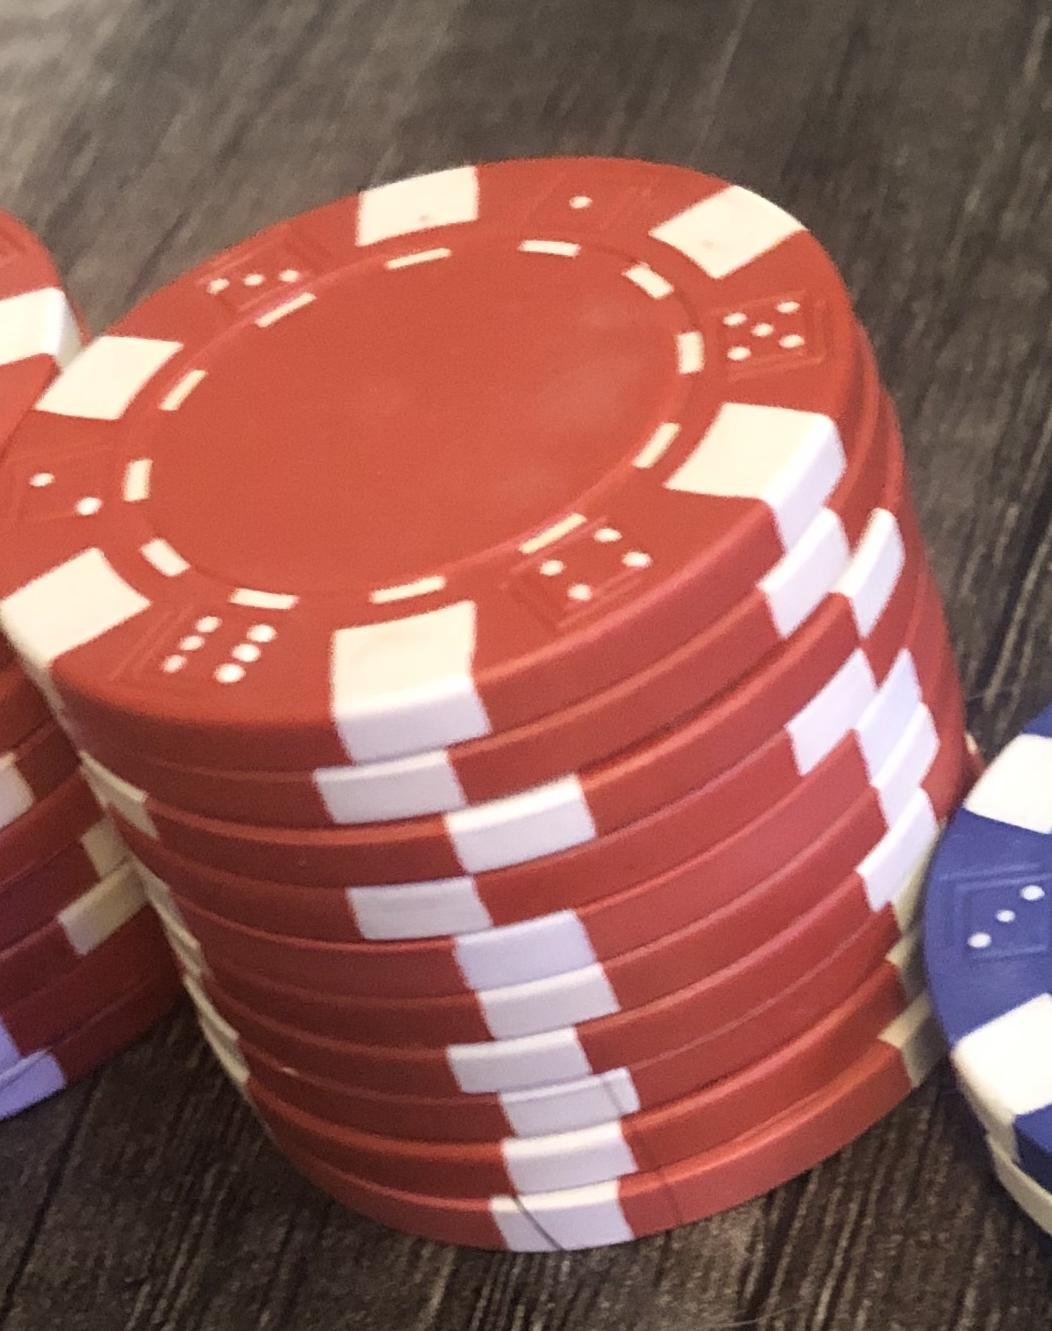Chip: (1, 1, 1052, 1331)
